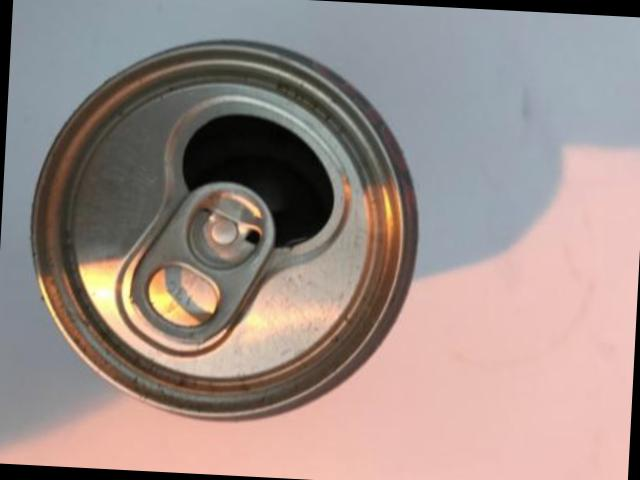metal: (33, 44, 418, 421)
